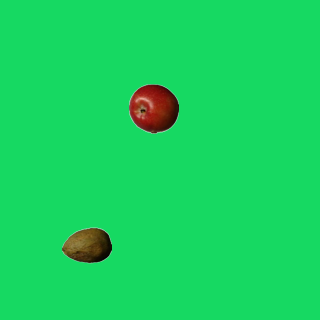Apple Braeburn: (128, 83, 178, 133)
Papaya: (61, 220, 111, 270)
